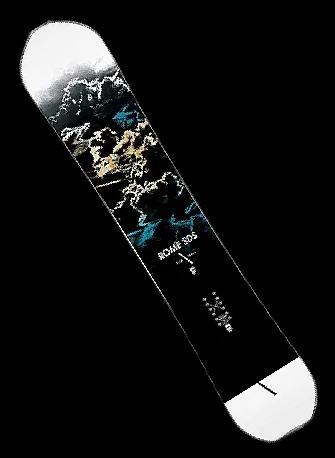Snowboard: (15, 16, 333, 458)
